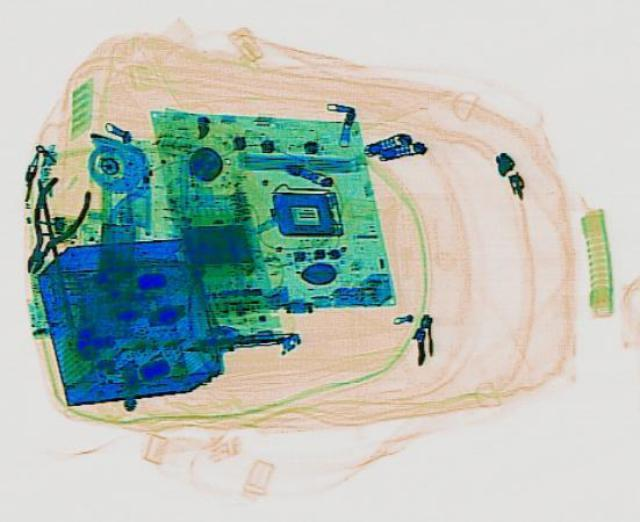Pliers: (3, 172, 97, 278)
